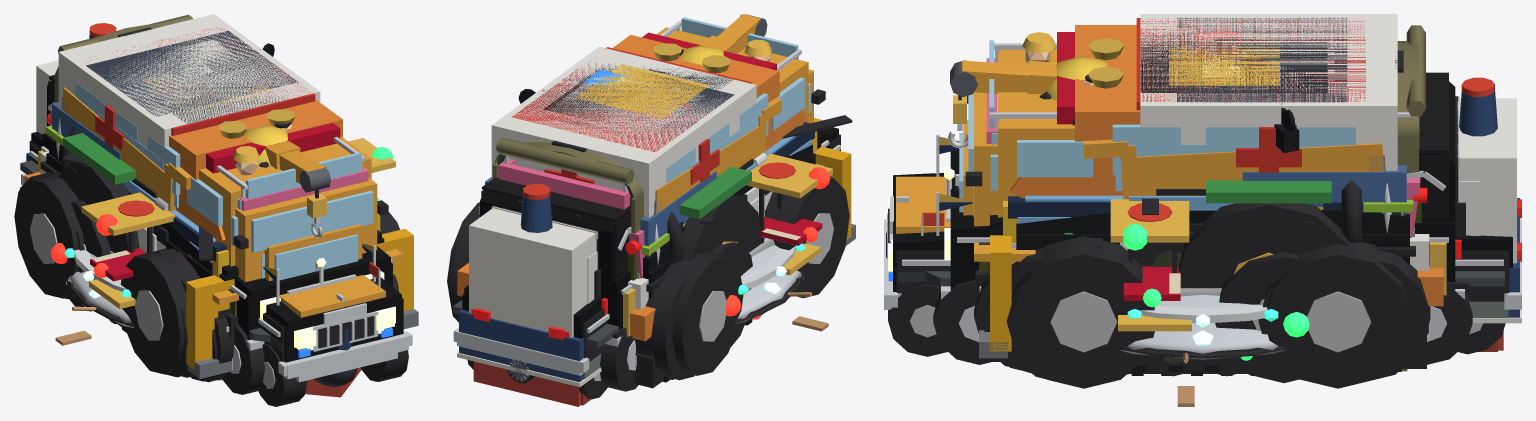
Rendered from hero-fleet-more.glb.
The picture shows the model from 3 angles, left to right: view 1: azimuth 30°, elevation 25°; view 2: azimuth 150°, elevation 25°; view 3: azimuth 270°, elevation 25°; orthographic projection. The views are drawn at different scales.
Parts seen in each view (by area): view 1: object 212, object 129, object 3, object 225, object 7, object 177, object 637, object 54, object 638, object 450, object 572, object 589 (+49 smaller); view 2: object 212, object 67, object 358, object 7, object 237, object 3, object 25, object 92, object 678, object 572, object 84, object 129 (+47 smaller); view 3: object 212, object 9, object 5, object 88, object 129, object 177, object 184, object 179, object 237, object 67, object 545, object 572 (+51 smaller).
Part boxes in pixels (box(x1,y1,x2,y2)): object 212: box(58, 14, 320, 150); object 129: box(86, 31, 298, 116); object 3: box(120, 248, 197, 374); object 225: box(114, 228, 418, 378); object 7: box(14, 172, 78, 297); object 177: box(169, 100, 342, 242); object 637: box(38, 150, 403, 304); object 54: box(264, 224, 385, 351); object 638: box(231, 191, 373, 252); object 450: box(81, 138, 395, 308); object 572: box(40, 81, 392, 339); object 589: box(29, 131, 403, 362); object 212: box(491, 46, 756, 217); object 67: box(469, 208, 596, 337); object 358: box(457, 183, 601, 406); object 7: box(665, 252, 743, 375); object 237: box(512, 47, 751, 151); object 3: box(765, 177, 849, 298); object 25: box(576, 64, 709, 118); object 92: box(546, 73, 751, 218); object 678: box(492, 137, 643, 233); object 572: box(480, 130, 829, 329); object 84: box(682, 194, 761, 261); object 129: box(524, 63, 734, 144); object 212: box(1140, 14, 1397, 172); object 9: box(1264, 242, 1411, 388); object 5: box(1010, 236, 1154, 388); object 88: box(1178, 203, 1350, 372); object 129: box(1177, 17, 1347, 102); object 177: box(1010, 25, 1140, 198); object 184: box(1083, 139, 1385, 199); object 179: box(1140, 30, 1327, 195); object 237: box(1136, 18, 1365, 110); object 67: box(1458, 98, 1516, 263); object 545: box(1016, 210, 1409, 264); object 572: box(950, 81, 1455, 289).
Size of the model in its own units: 2.51 by 1.56 by 3.47.
